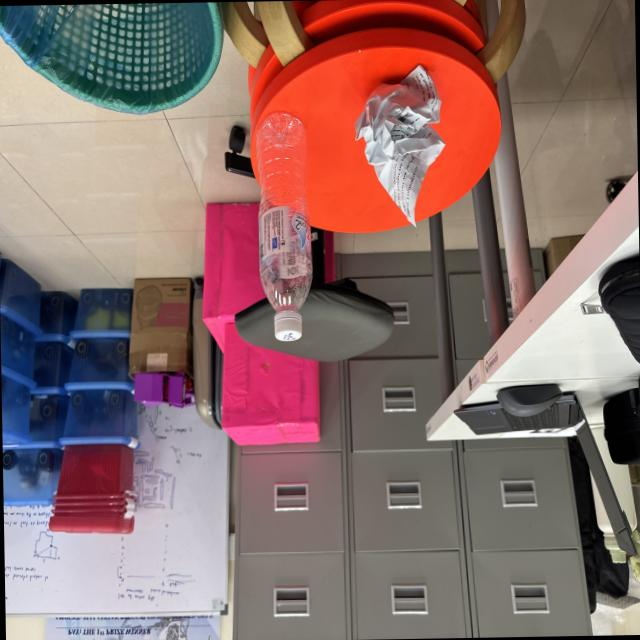crumpled_paper: (346, 58, 456, 231)
plastic_bottle: (250, 101, 320, 352)
